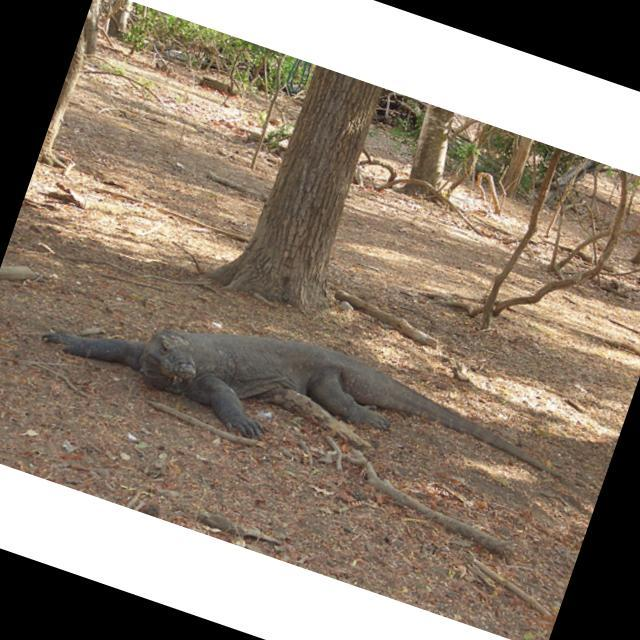KomodoDragon: (30, 256, 582, 542)
